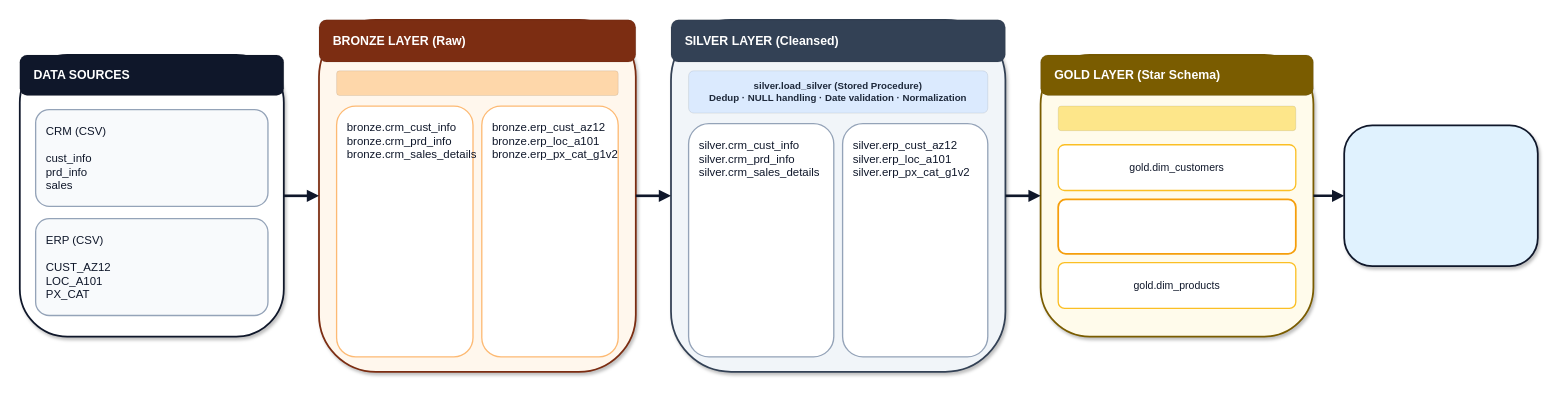
Some shapes in this 1558 by 393 pixel diagram are drawn without their labels. Each missing label, with the centre of its shape:
"BULK INSERT" belongs at pixel 477 82.
"gold.fact_sales" belongs at pixel 1176 226.
"Power BI Dashboard" belongs at pixel 1441 197.
"Views (DDL)" belongs at pixel 1176 118.
